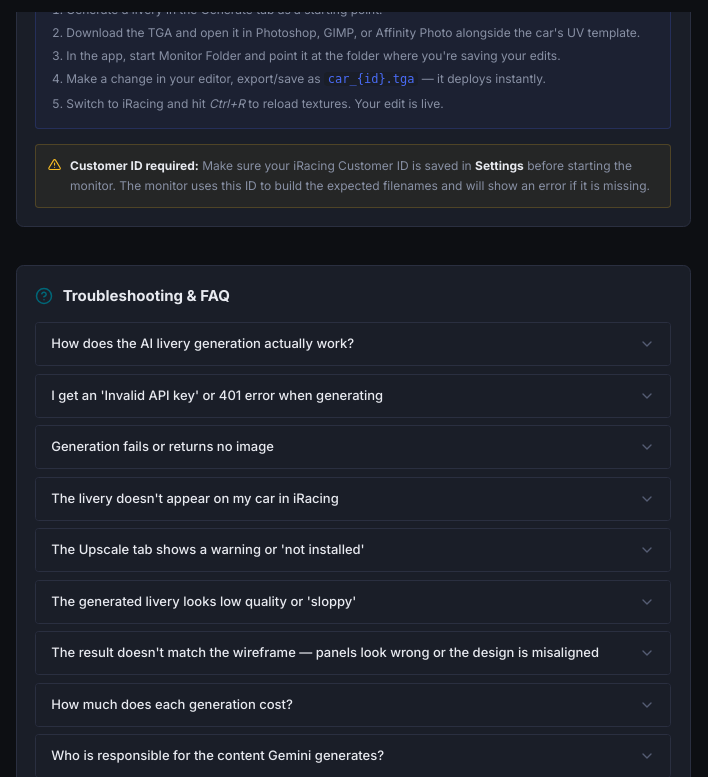
Test case: GettingStartedTab component › collapses a FAQ item when clicked again
(page scrolled)
Step 1. Click the button "I get an 'Invalid API key' or 401 error when generating" → coordinates (353, 396), box 36,375 -> 670,417
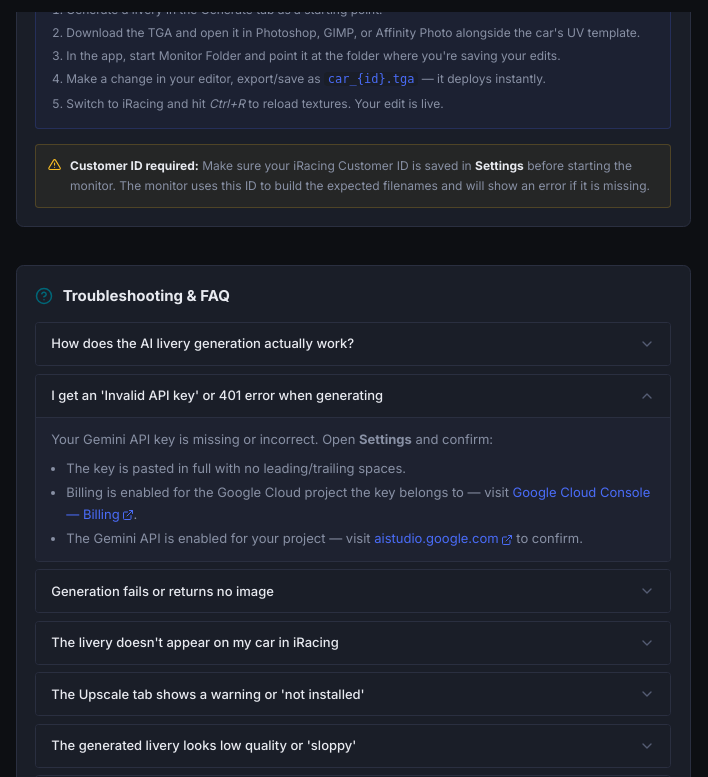
Now the list item "Billing is enabled" is shown, box 66,484 -> 513,500
Step 2. Click the button "I get an 'Invalid API key' or 401 error when generating" → coordinates (353, 396), box 36,375 -> 670,417
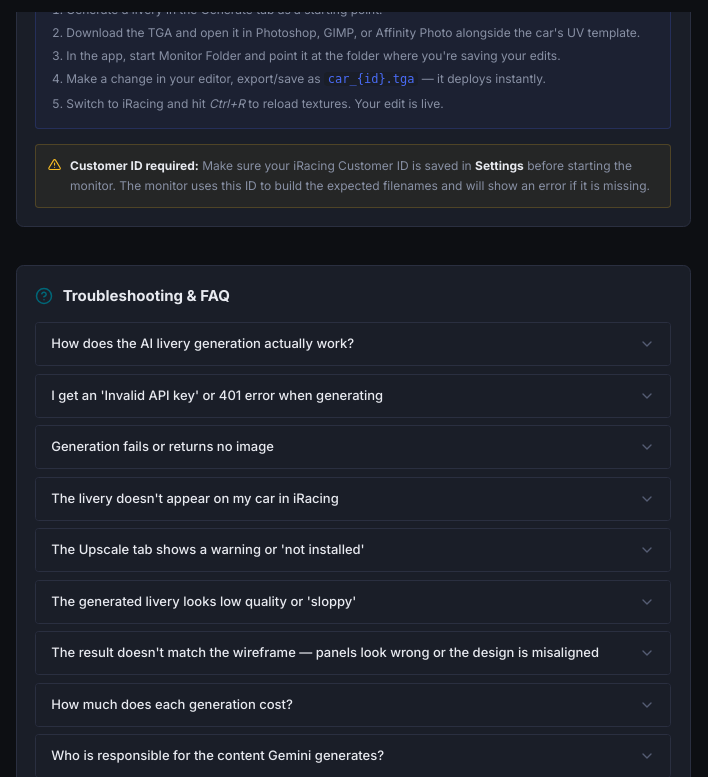
Now the list item "Billing is enabled" is gone
